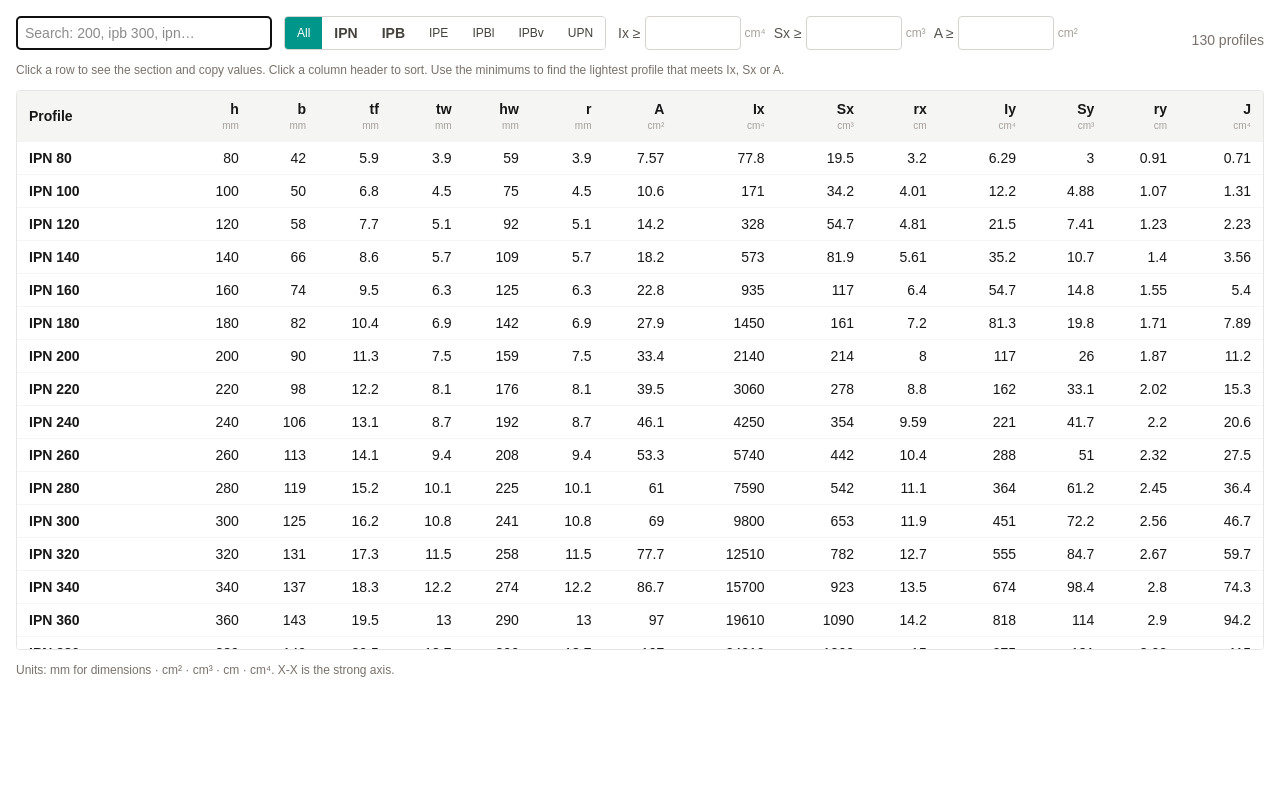
ProfileExplorer › tapered series show the toe radius in the legend
Click the column heading "IPN 200". click: (95, 356)
box: [17, 340, 173, 373]
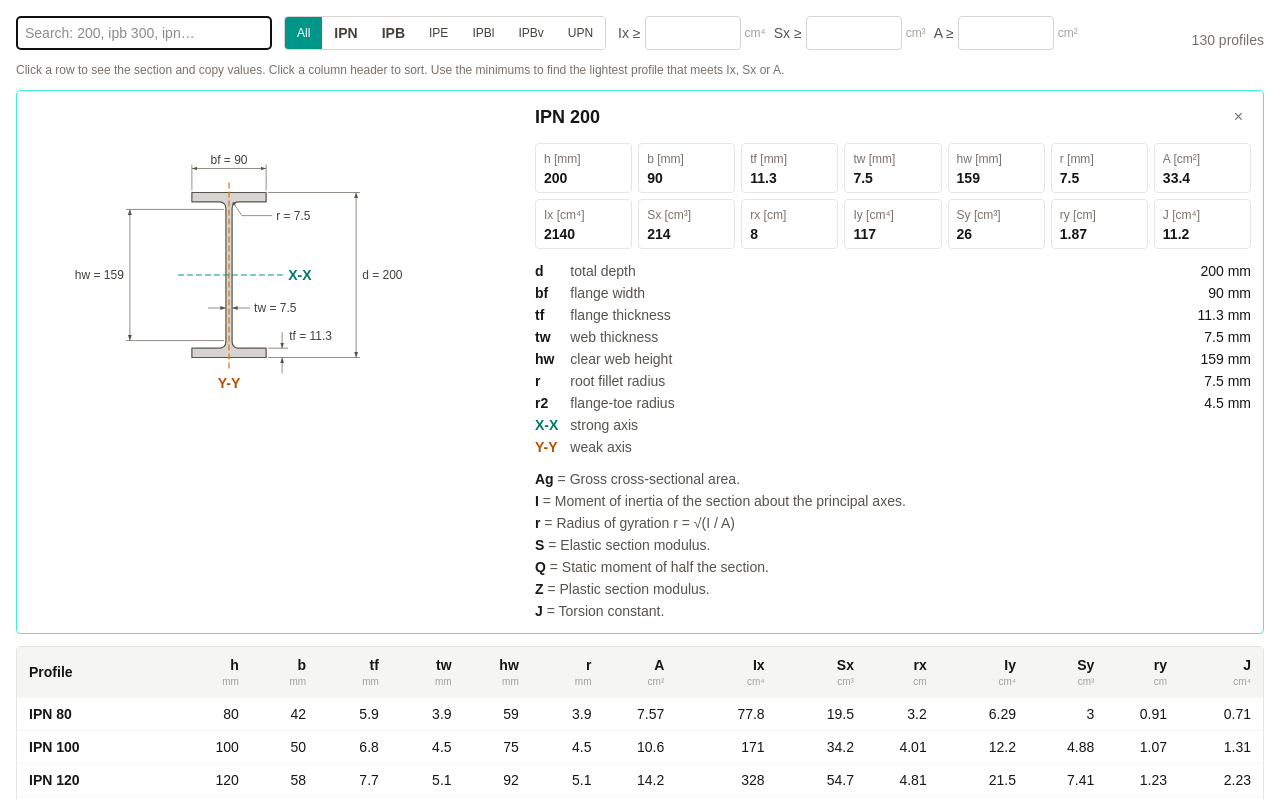
Now the element named "Legend" shows "r2", box [535, 395, 548, 411]
